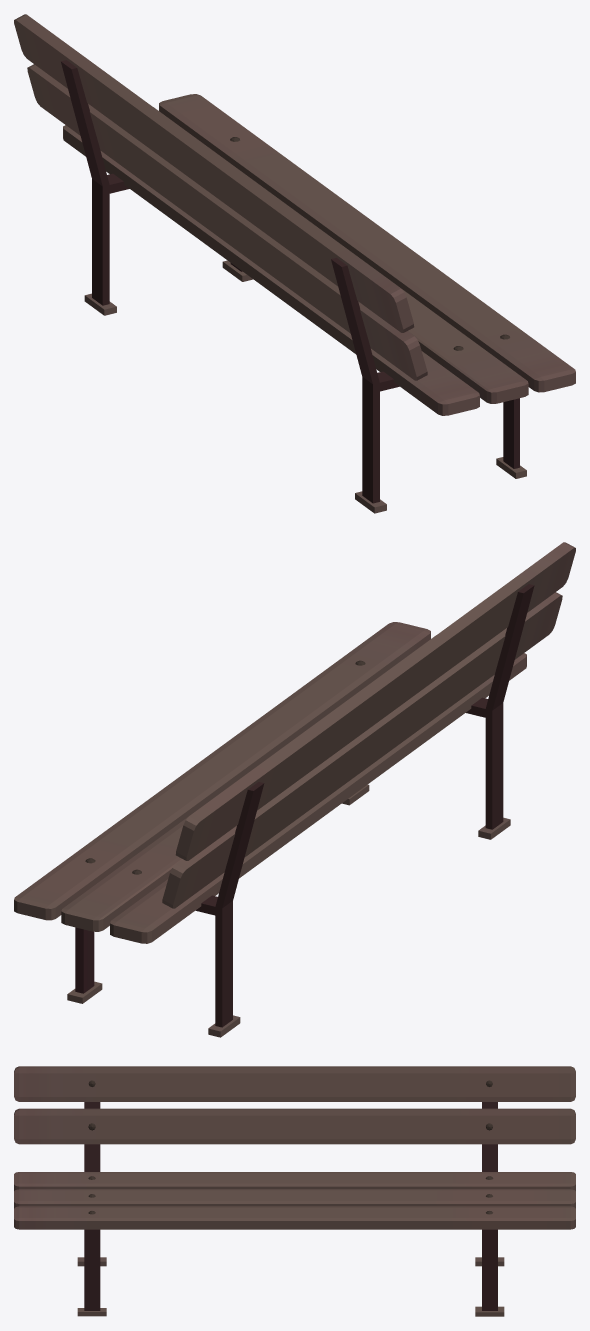
Rendered from Bench_01.glb.
The picture shows the model from 3 angles, top to bottom: view 1: azimuth 30°, elevation 25°; view 2: azimuth 150°, elevation 25°; view 3: azimuth 270°, elevation 25°; orthographic projection. The views are drawn at different scales.
Parts seen in each view (by area): view 1: Bench_01; view 2: Bench_01; view 3: Bench_01.
Boxes of the visible parts, x1,y1,x2,y2 form: Bench_01: (14, 14, 575, 513); Bench_01: (14, 542, 575, 1037); Bench_01: (14, 1066, 575, 1316).
Size of what is drawn, in the model's own units: 0.73 by 0.9471 by 2.55.
1 material, 1 textured.
